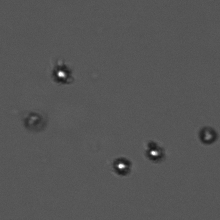Dead Cell: (21, 108, 47, 131), (196, 123, 218, 144)
Living Cell: (50, 61, 74, 84), (144, 140, 166, 161), (112, 156, 132, 178)
